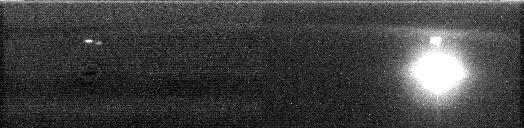positive: (428, 34, 444, 48)
